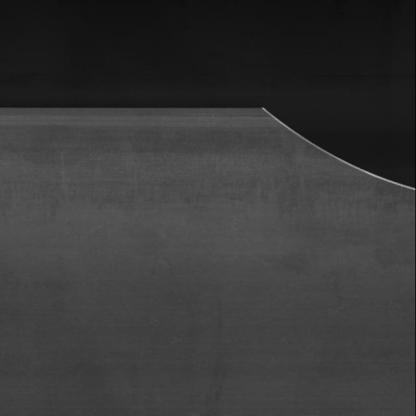crescent_gap: (246, 96, 416, 224)
